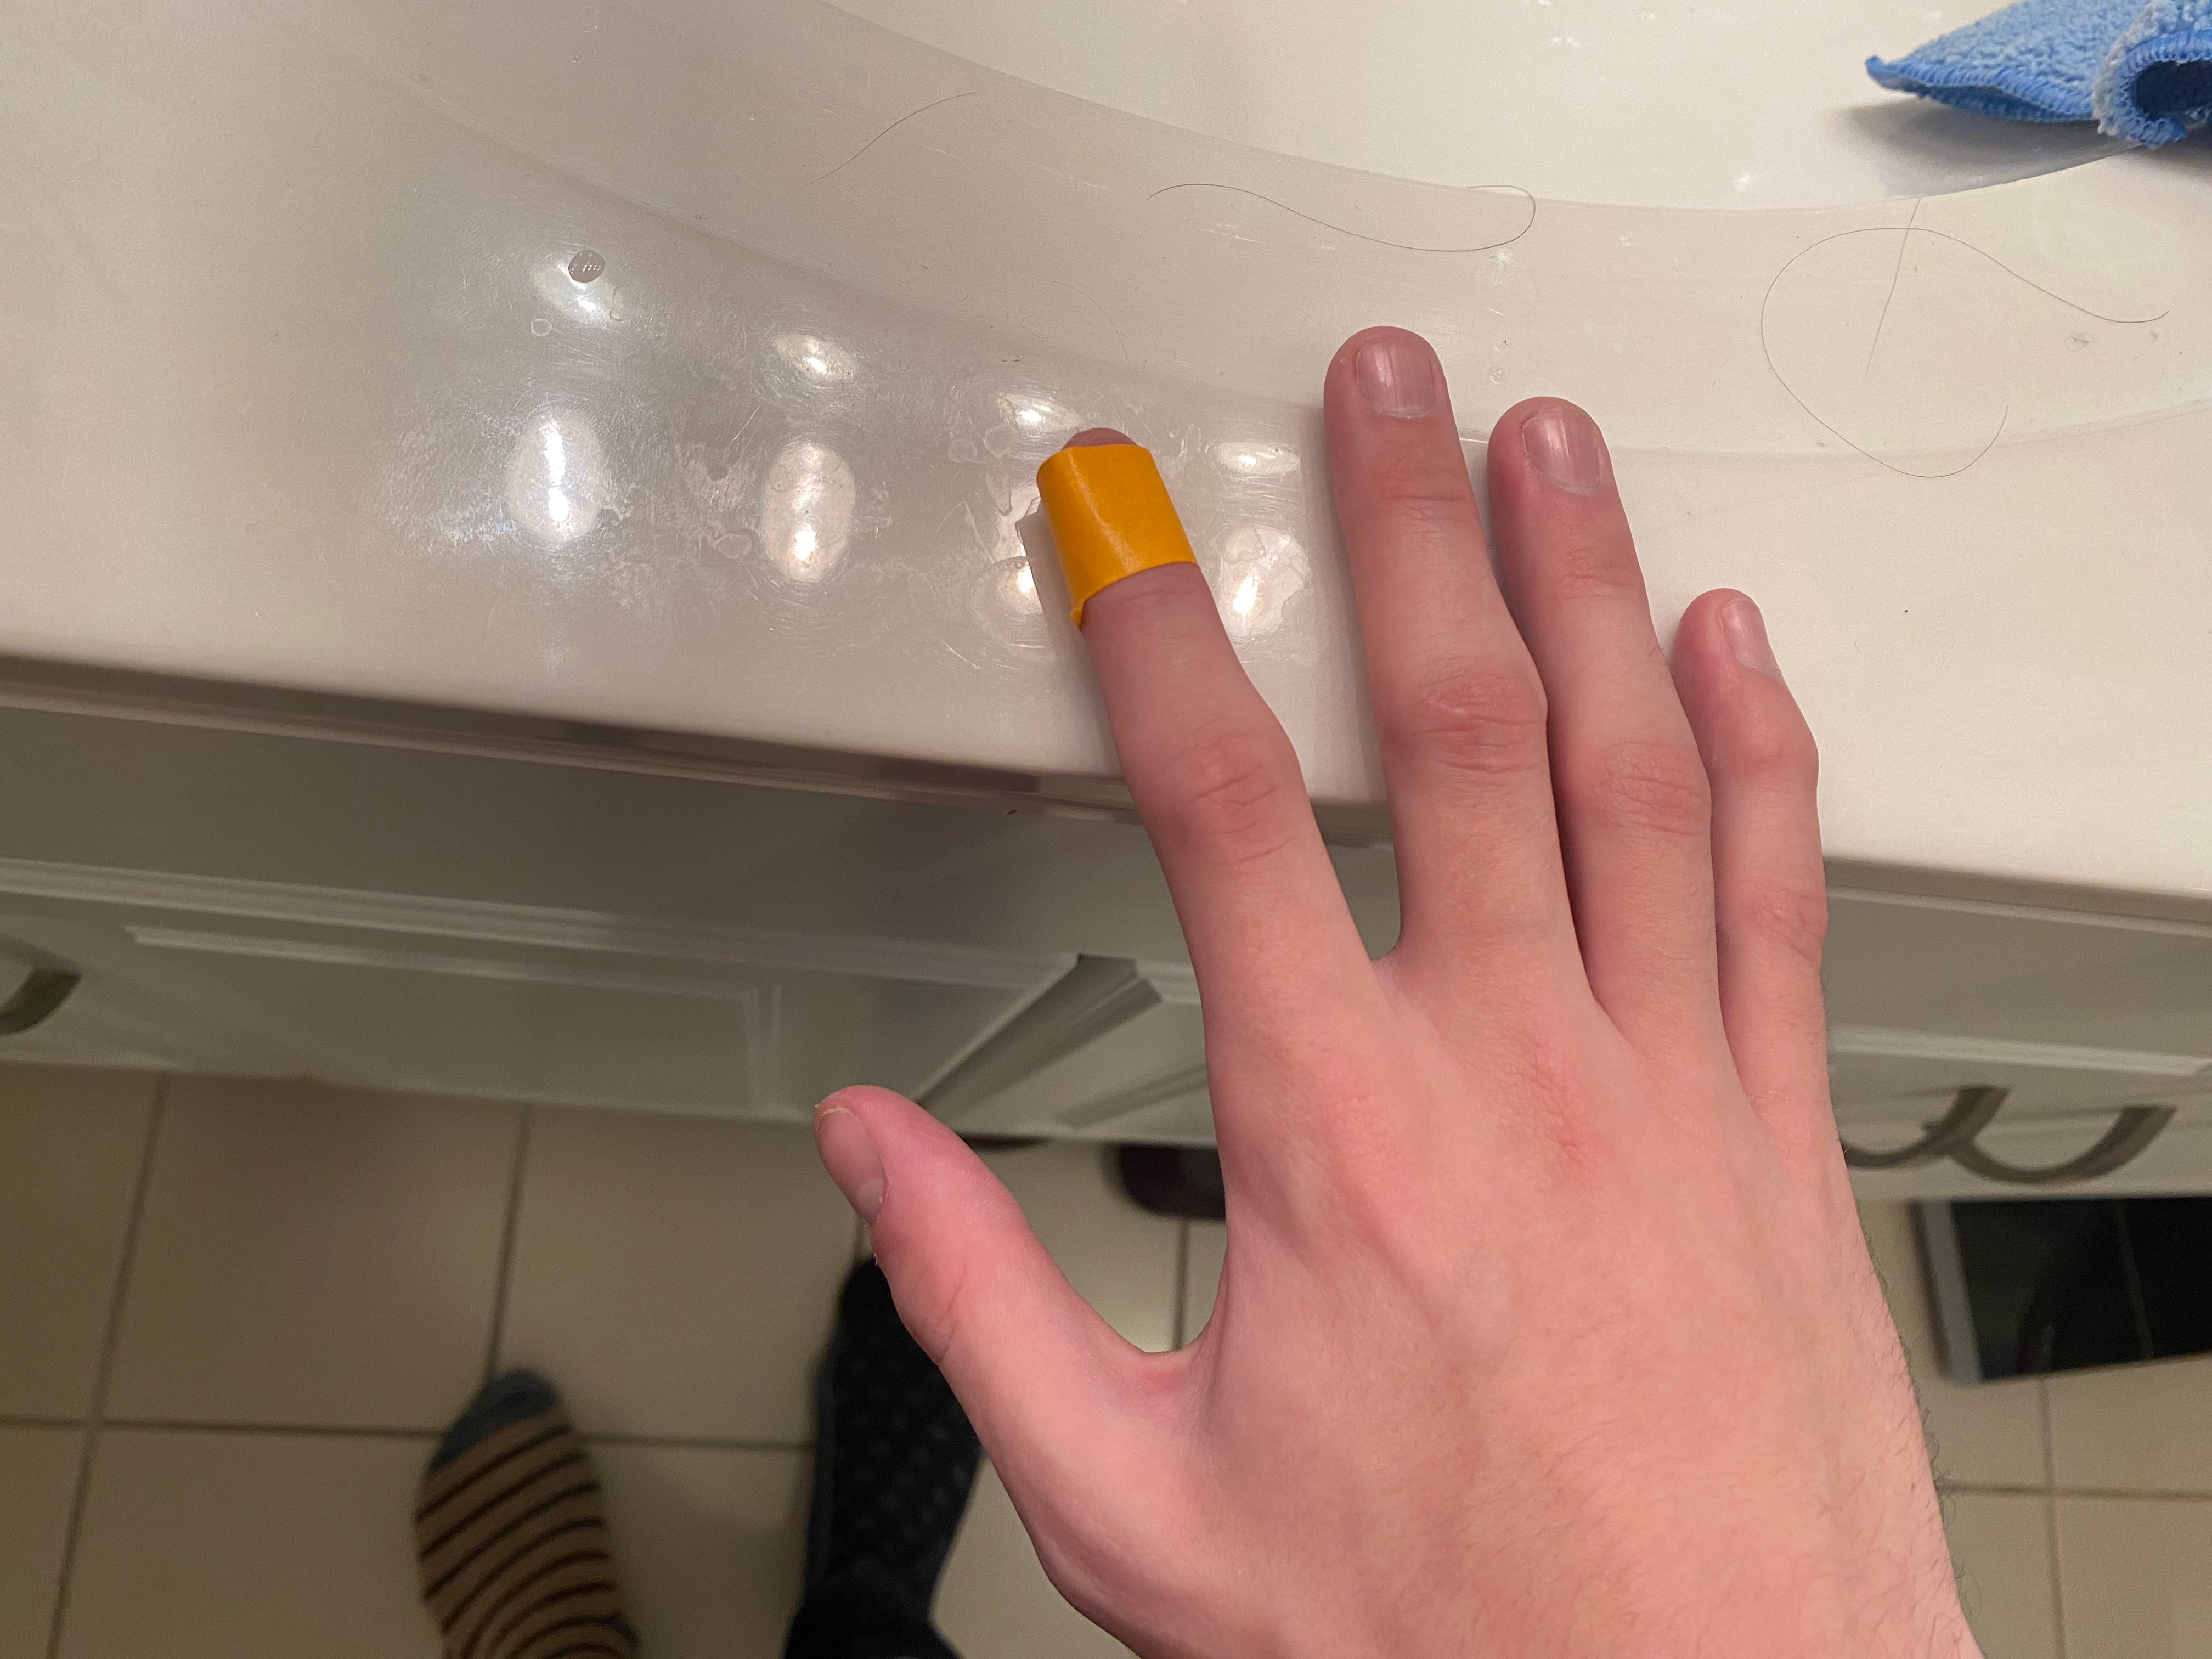fingertip: (1038, 413, 1268, 662)
